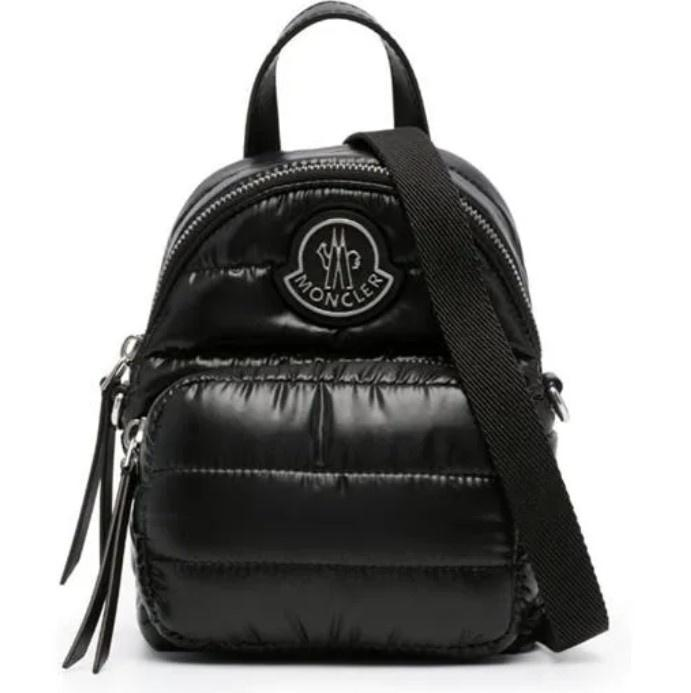MONCLER: (273, 209, 406, 328)
